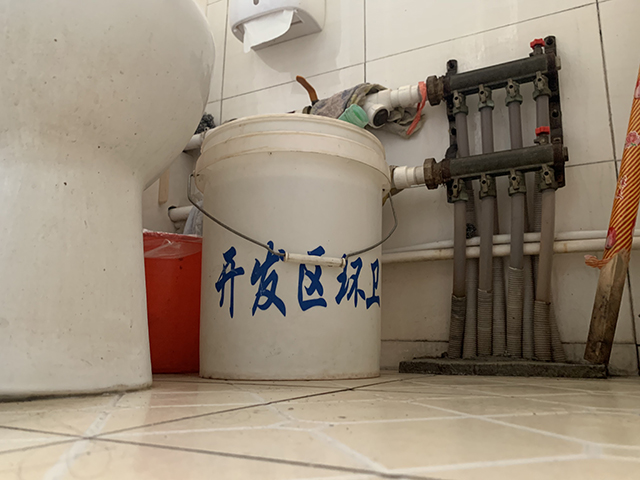closestool: (1, 1, 218, 402)
